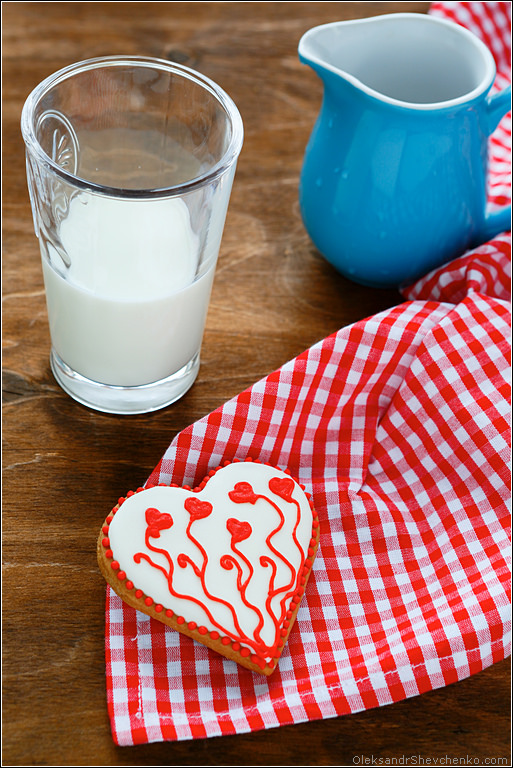glass of milk: (23, 46, 251, 428)
